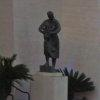Statue: (27, 8, 68, 72)
